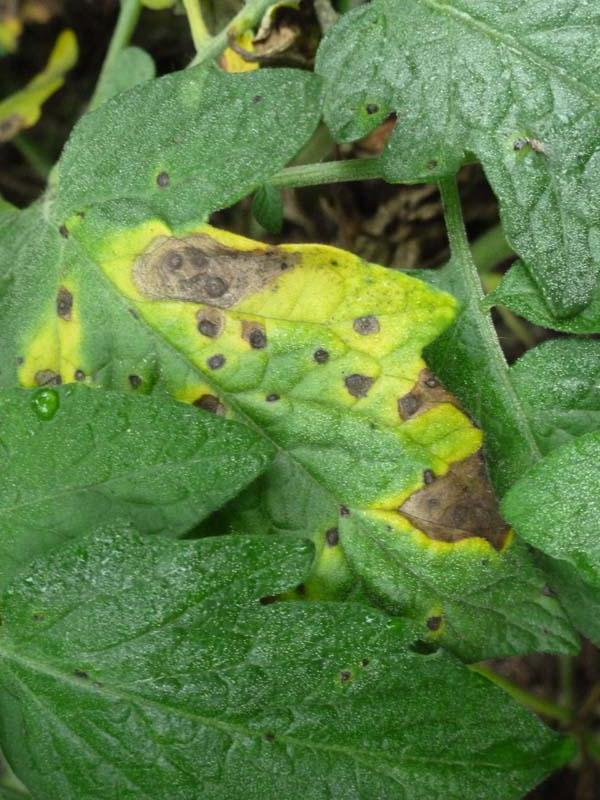Tomato Early blight leaf: (40, 213, 583, 658)
